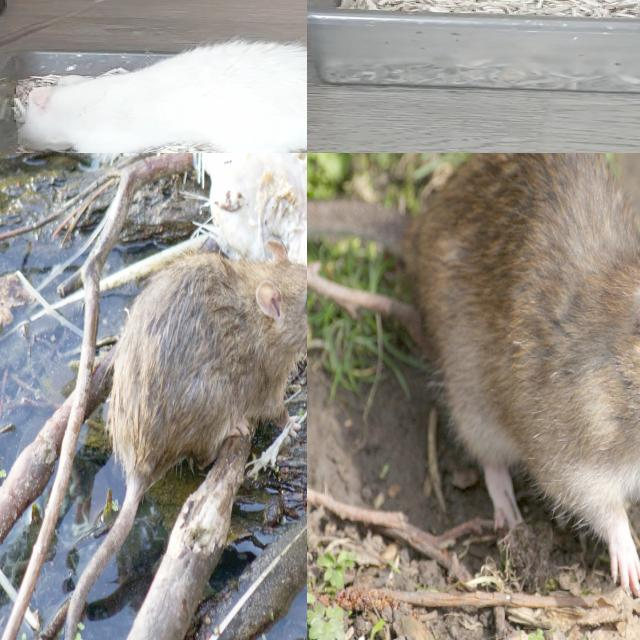rat: (381, 153, 640, 616), (107, 265, 307, 472), (13, 45, 307, 153)
